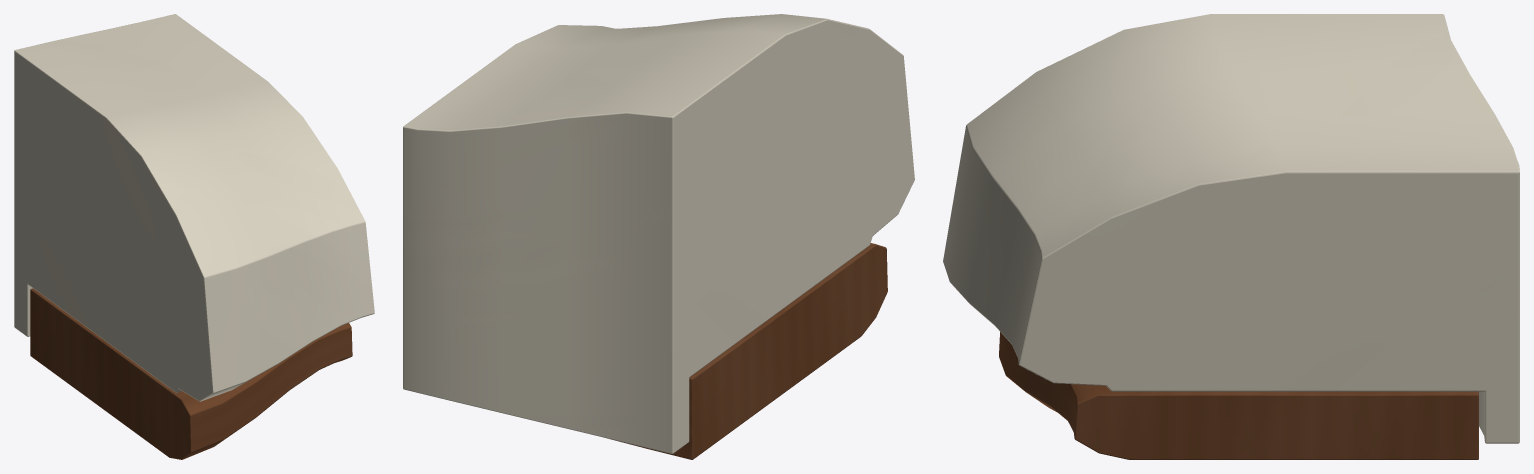
File: AST-VR-01-T.glb
3 views of the same model, side by side, from view 1: azimuth 30°, elevation 25°; view 2: azimuth 150°, elevation 25°; view 3: azimuth 270°, elevation 25° (orthographic). The views are drawn at different scales.
Parts seen in each view (by area): view 1: ASTRAEA_runtime_ivory_enamel, ASTRAEA_runtime_warm_walnut; view 2: ASTRAEA_runtime_ivory_enamel, ASTRAEA_runtime_warm_walnut; view 3: ASTRAEA_runtime_ivory_enamel, ASTRAEA_runtime_warm_walnut.
Part boxes in pixels (x1=…): ASTRAEA_runtime_ivory_enamel: x1=14, y1=14, x2=374, y2=401; ASTRAEA_runtime_warm_walnut: x1=30, y1=288, x2=352, y2=459; ASTRAEA_runtime_ivory_enamel: x1=403, y1=14, x2=914, y2=453; ASTRAEA_runtime_warm_walnut: x1=611, y1=243, x2=887, y2=459; ASTRAEA_runtime_ivory_enamel: x1=943, y1=14, x2=1519, y2=443; ASTRAEA_runtime_warm_walnut: x1=999, y1=332, x2=1478, y2=459.
Bounding box in the file's own units: 0.239 × 0.3498 × 0.4946.
2 materials, 2 textured.
